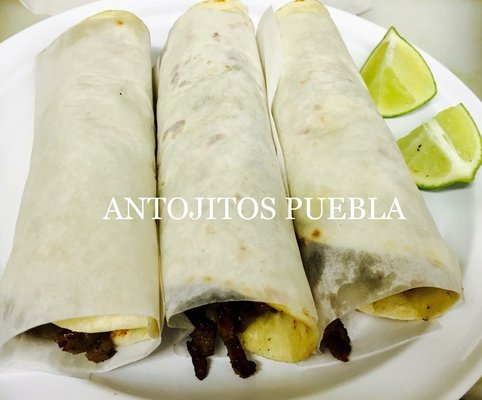pasta: (81, 0, 473, 386)
